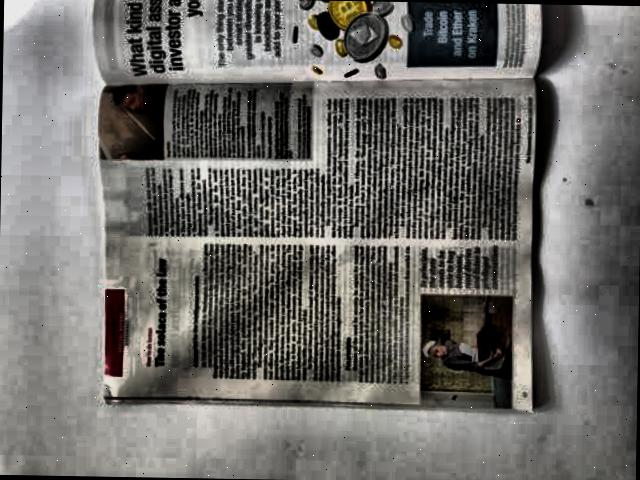Paper: (68, 0, 569, 431)
